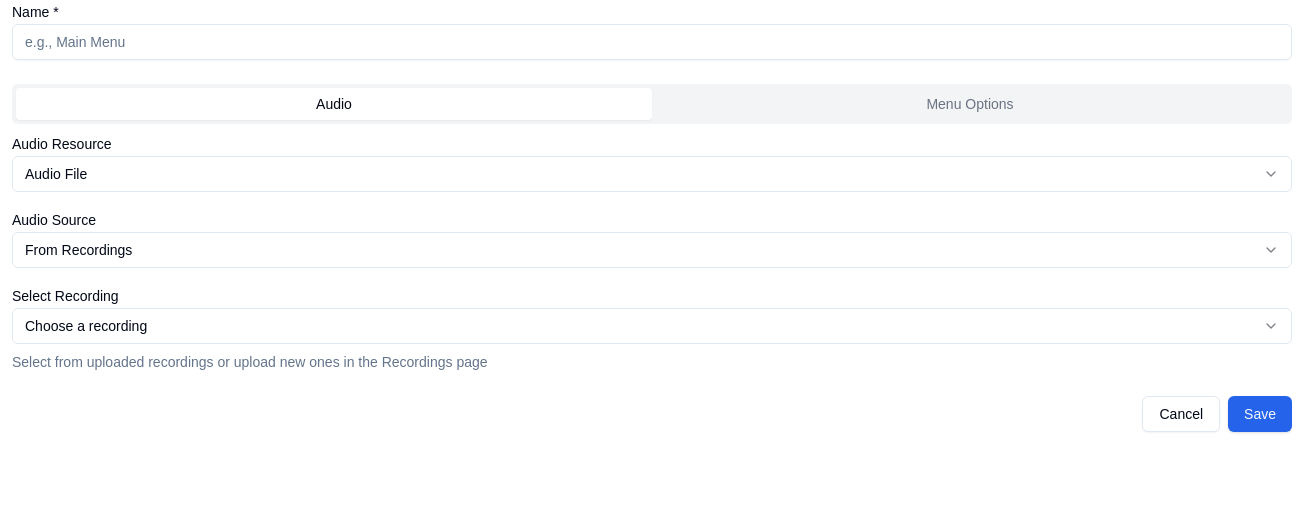
it: IvrMenuForm › shows every invalid field under itself at once and blocks submit
Click the button "Save": [1260, 414] box x1=1228 y1=396 x2=1292 y2=432
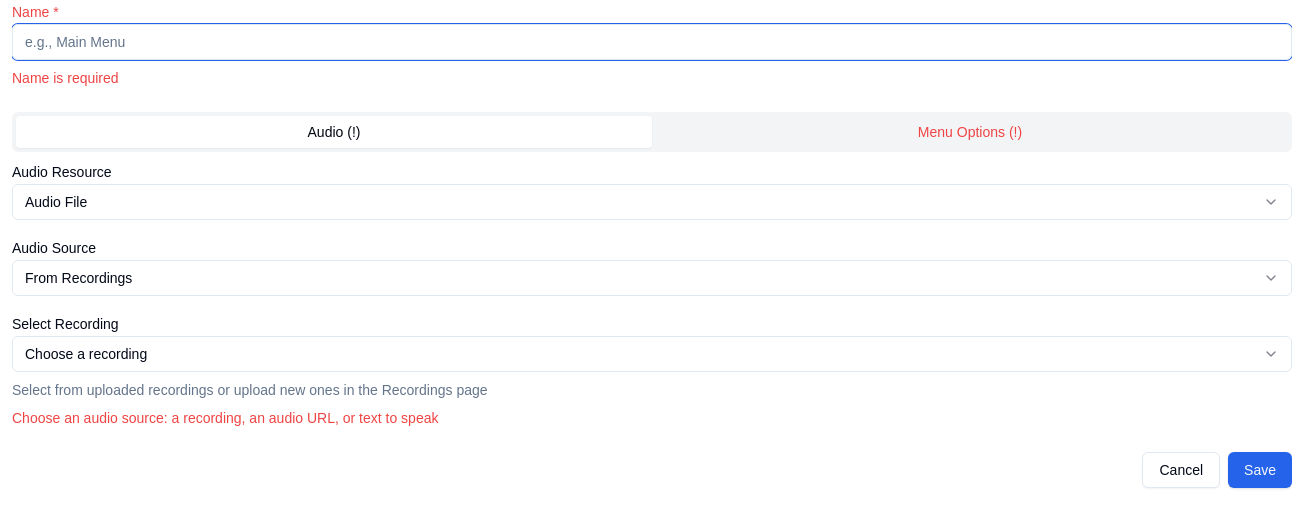
Expected: the text "Name is required" is shown, x1=12 y1=70 x2=119 y2=86
Expected: the text "Choose an audio source: a recording, an audio URL, or text to speak" is shown, x1=12 y1=410 x2=438 y2=426
Expected: the tab "Menu Options (!)" is shown, x1=652 y1=116 x2=1288 y2=148
